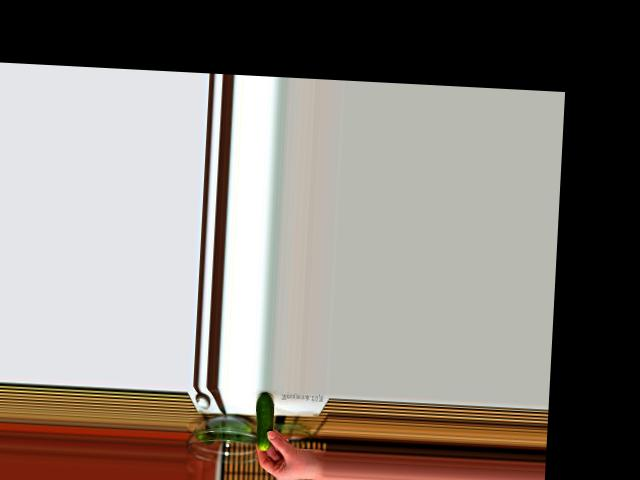cucumber: (254, 392, 275, 451)
